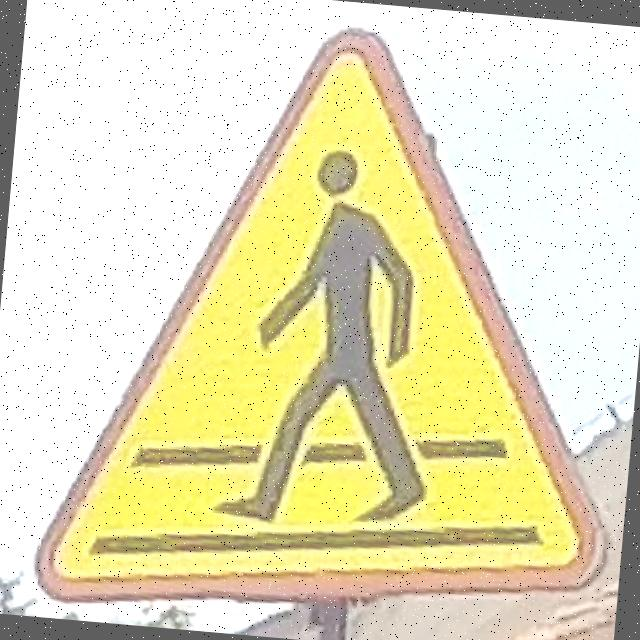Przejscie dla pieszych: (29, 1, 640, 640)
